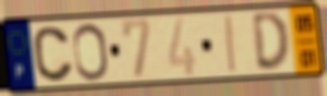4: (166, 16, 199, 78)
7: (118, 16, 156, 83)
C: (31, 25, 76, 84)
D: (250, 10, 292, 74)
I: (224, 13, 239, 76)
O: (70, 21, 111, 83)
